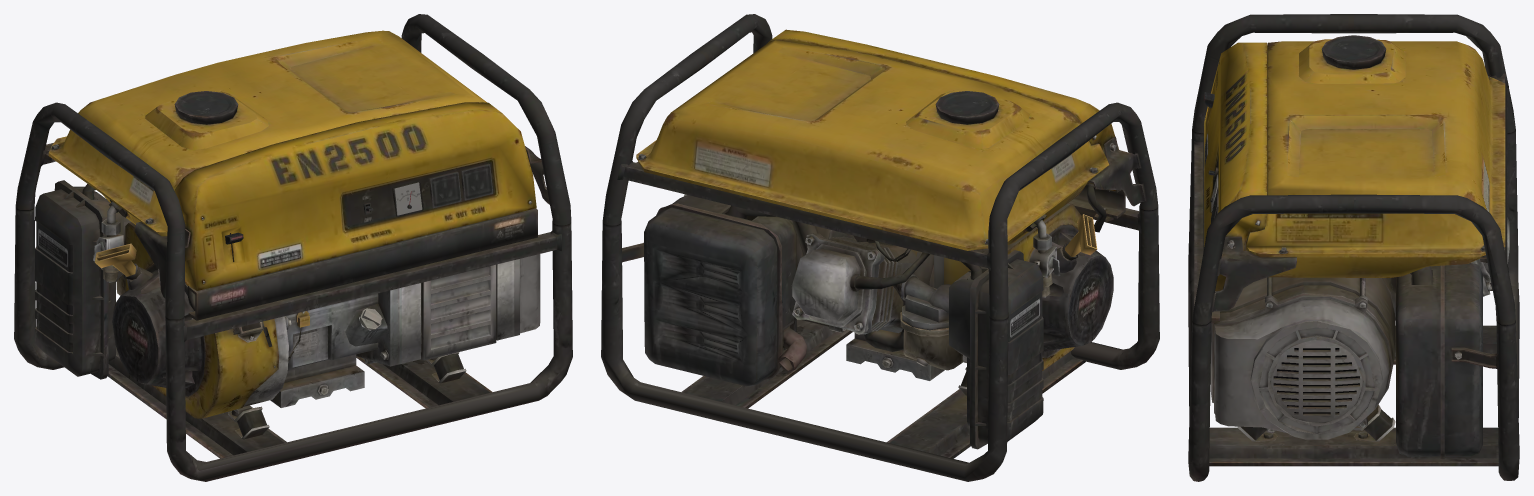
File: portable_generator.glb
The picture shows the model from 3 angles, left to right: view 1: azimuth 30°, elevation 25°; view 2: azimuth 150°, elevation 25°; view 3: azimuth 270°, elevation 25°; orthographic projection.
Visible parts, largest first — view 1: portable_generator; view 2: portable_generator; view 3: portable_generator.
Part boxes in pixels (x1,y1,x2,y2): portable_generator: (14,14,572,481); portable_generator: (601,14,1159,481); portable_generator: (1188,14,1519,481).
Bounding box in the file's own units: 0.8169 × 0.5752 × 0.564.
Materials: 2 (2 with a texture image).
